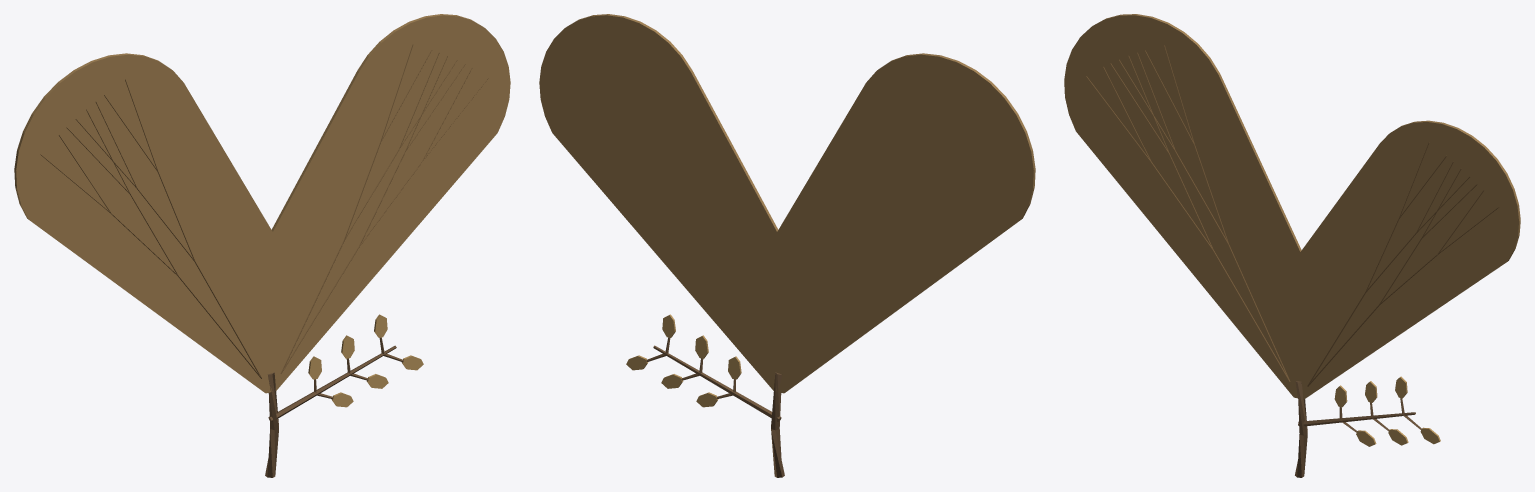
The model's file is lygodium.glb.
The picture shows the model from 3 angles, left to right: view 1: azimuth 30°, elevation 25°; view 2: azimuth 150°, elevation 25°; view 3: azimuth 330°, elevation 25°; orthographic projection. The views are drawn at different scales.
Visible parts, largest first — view 1: bifid-foliage-with-small-fertile-branch; view 2: bifid-foliage-with-small-fertile-branch; view 3: bifid-foliage-with-small-fertile-branch.
Boxes of the visible parts, box(x1,y1,x2,y2) form: bifid-foliage-with-small-fertile-branch: box(14, 14, 510, 477); bifid-foliage-with-small-fertile-branch: box(539, 14, 1035, 477); bifid-foliage-with-small-fertile-branch: box(1064, 14, 1520, 477).
Size of the model in its own units: 0.0551 by 0.0489 by 0.001.
